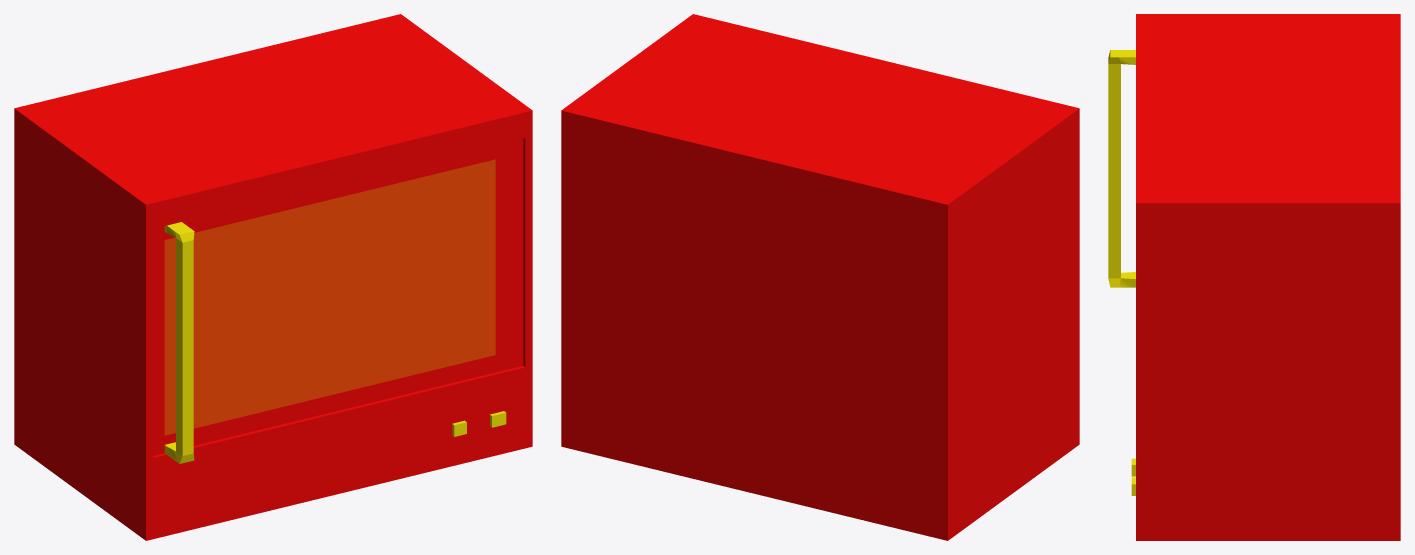
Rendered from Micro ondes.FBX.
The picture shows the model from 3 angles, left to right: view 1: azimuth 30°, elevation 25°; view 2: azimuth 150°, elevation 25°; view 3: azimuth 270°, elevation 25°; orthographic projection.
Parts seen in each view (by area): view 1: Micro ondes001; view 2: Micro ondes001; view 3: Micro ondes001.
Part boxes in pixels (x1,y1,x2,y2): Micro ondes001: [14, 14, 532, 540]; Micro ondes001: [561, 14, 1079, 540]; Micro ondes001: [1108, 14, 1400, 540].
Bounding box in the file's own units: 34.87 × 28.96 × 22.75.
